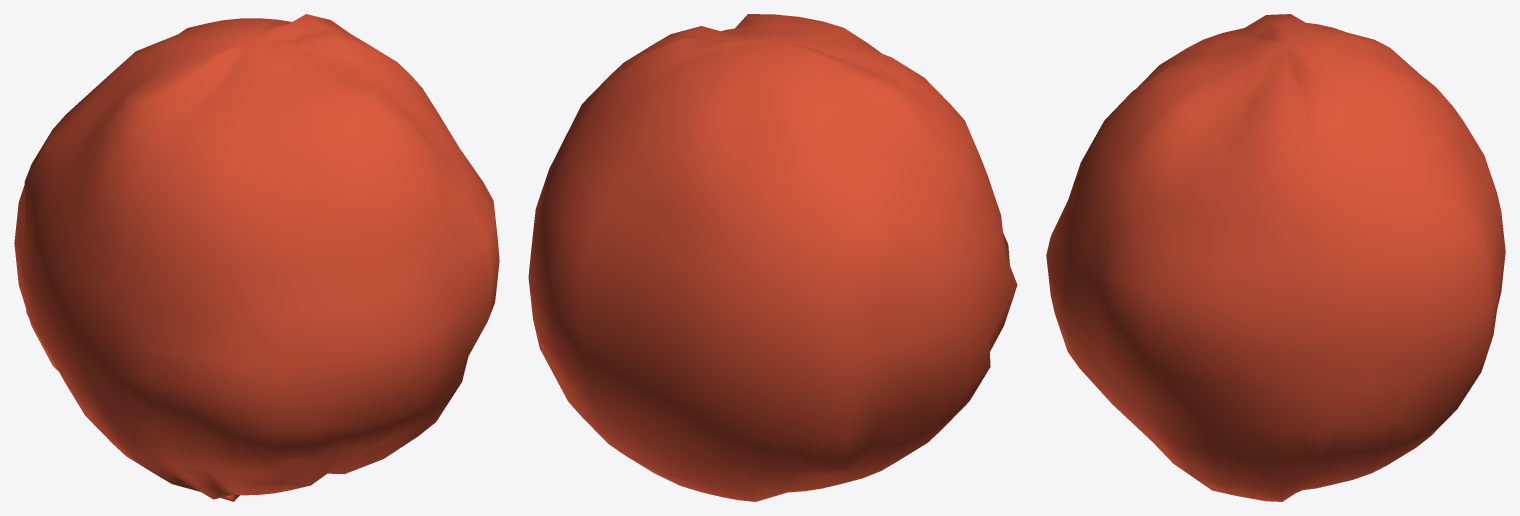
The model's file is LavaBullet.fbx.
The picture shows the model from 3 angles, left to right: view 1: azimuth 30°, elevation 25°; view 2: azimuth 150°, elevation 25°; view 3: azimuth 270°, elevation 25°; orthographic projection. The views are drawn at different scales.
Parts seen in each view (by area): view 1: LavaBullet; view 2: LavaBullet; view 3: LavaBullet.
Boxes of the visible parts, bbox=[...] form: LavaBullet: bbox=[14, 14, 499, 501]; LavaBullet: bbox=[528, 14, 1017, 501]; LavaBullet: bbox=[1046, 14, 1505, 501].
Size of the model in its own units: 0.23 by 0.232 by 0.2397.
